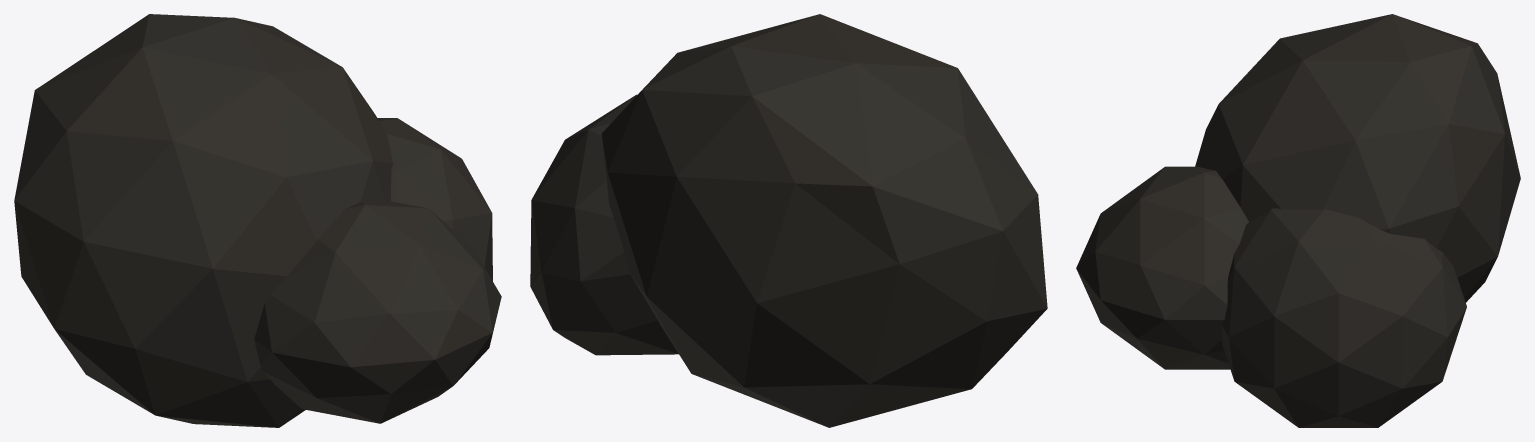
The model's file is SM_Prop_Rock02.fbx.
3 renders of one model, left to right at view 1: azimuth 30°, elevation 25°; view 2: azimuth 150°, elevation 25°; view 3: azimuth 270°, elevation 25°, orthographic. The views are drawn at different scales.
Parts seen in each view (by area): view 1: Icosphere.006; view 2: Icosphere.006; view 3: Icosphere.006.
Boxes of the visible parts, x1=… form: Icosphere.006: x1=14, y1=14, x2=501, y2=427; Icosphere.006: x1=530, y1=14, x2=1047, y2=427; Icosphere.006: x1=1076, y1=14, x2=1520, y2=427.
Size of the model in its own units: 236 by 184 by 249.
